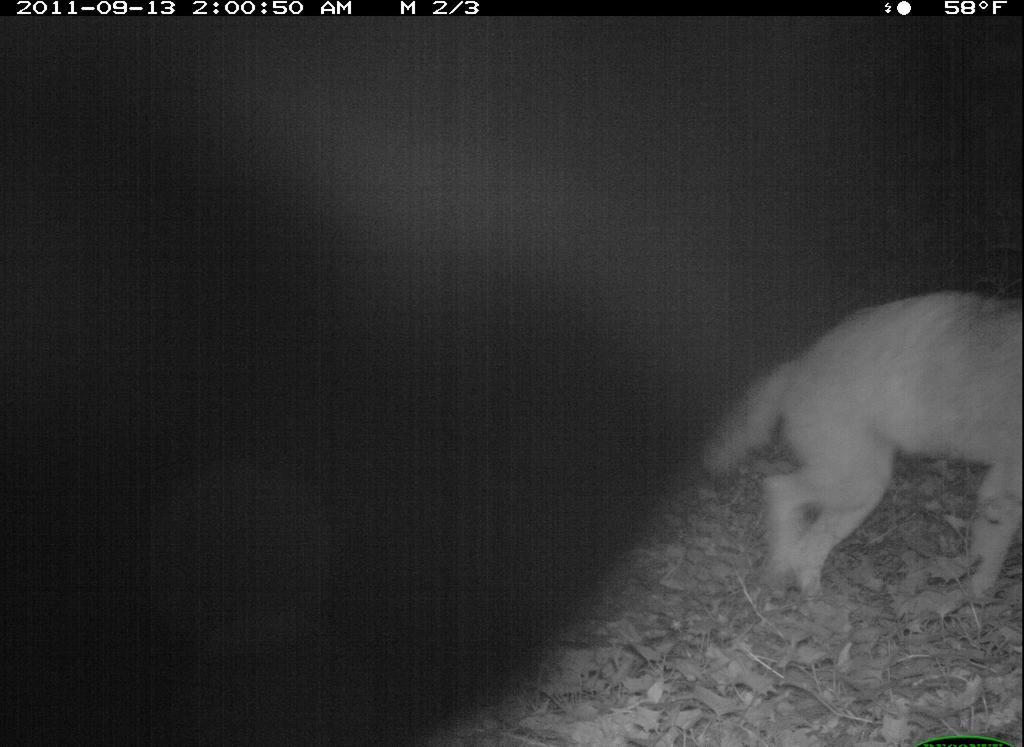coyote: (697, 265, 1013, 637)
